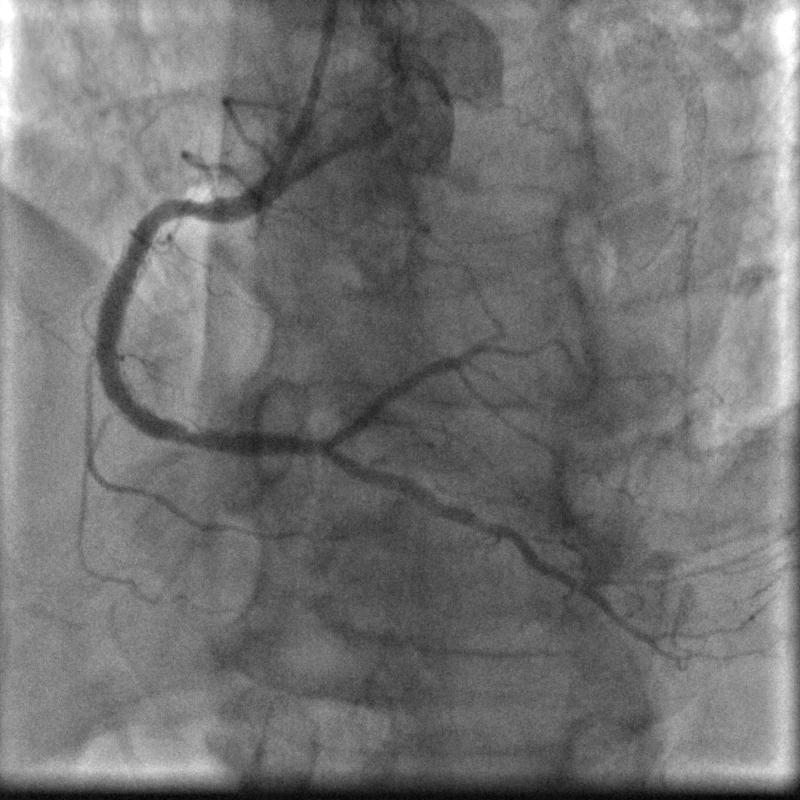Stenosis: (174, 189, 231, 226)
